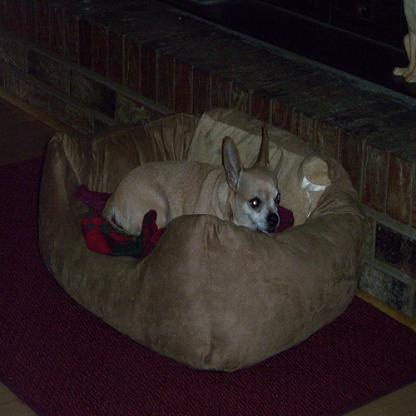dog: (103, 123, 281, 238)
